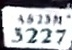character: (26, 26, 37, 44), (55, 28, 66, 45)
